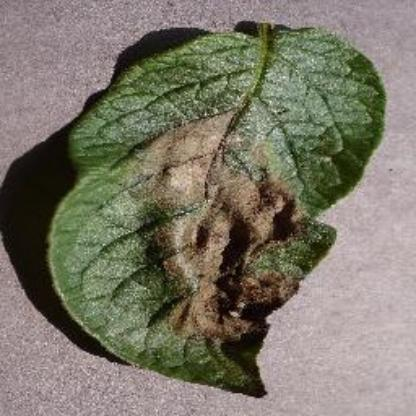Late-Blight: (38, 18, 388, 398)
